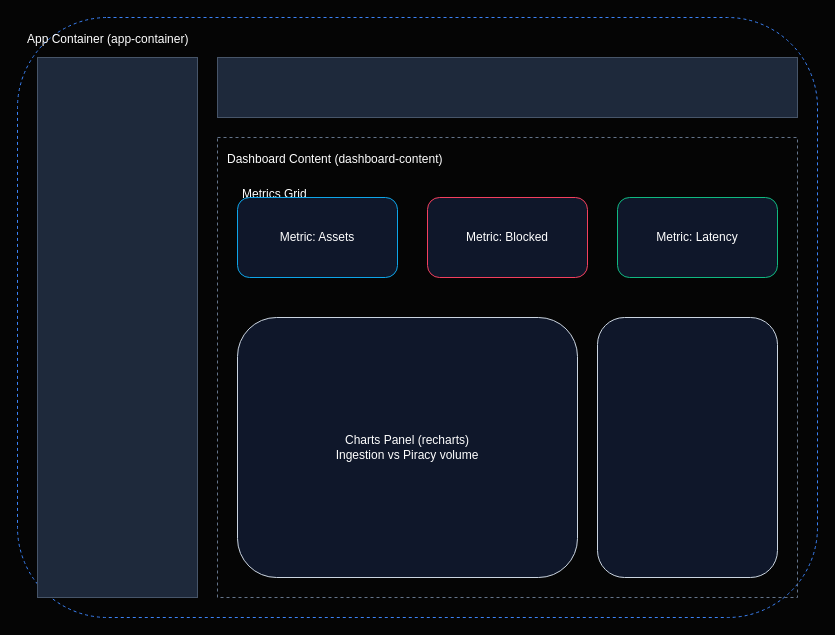
Some shapes in this 835 by 635 pixel diagram are drawn without their labels. Here are the shapes that lost their labels. From the top down, the centre of each, then its label:
At point 507,87: "Top Header (top-header) - Global Search - Alerts / Profile".
At point 117,327: "Sidebar (sidebar) - Navigation Links - Brand Logo".
At point 687,447: "Live Intercept Feed (Mock Data)".
